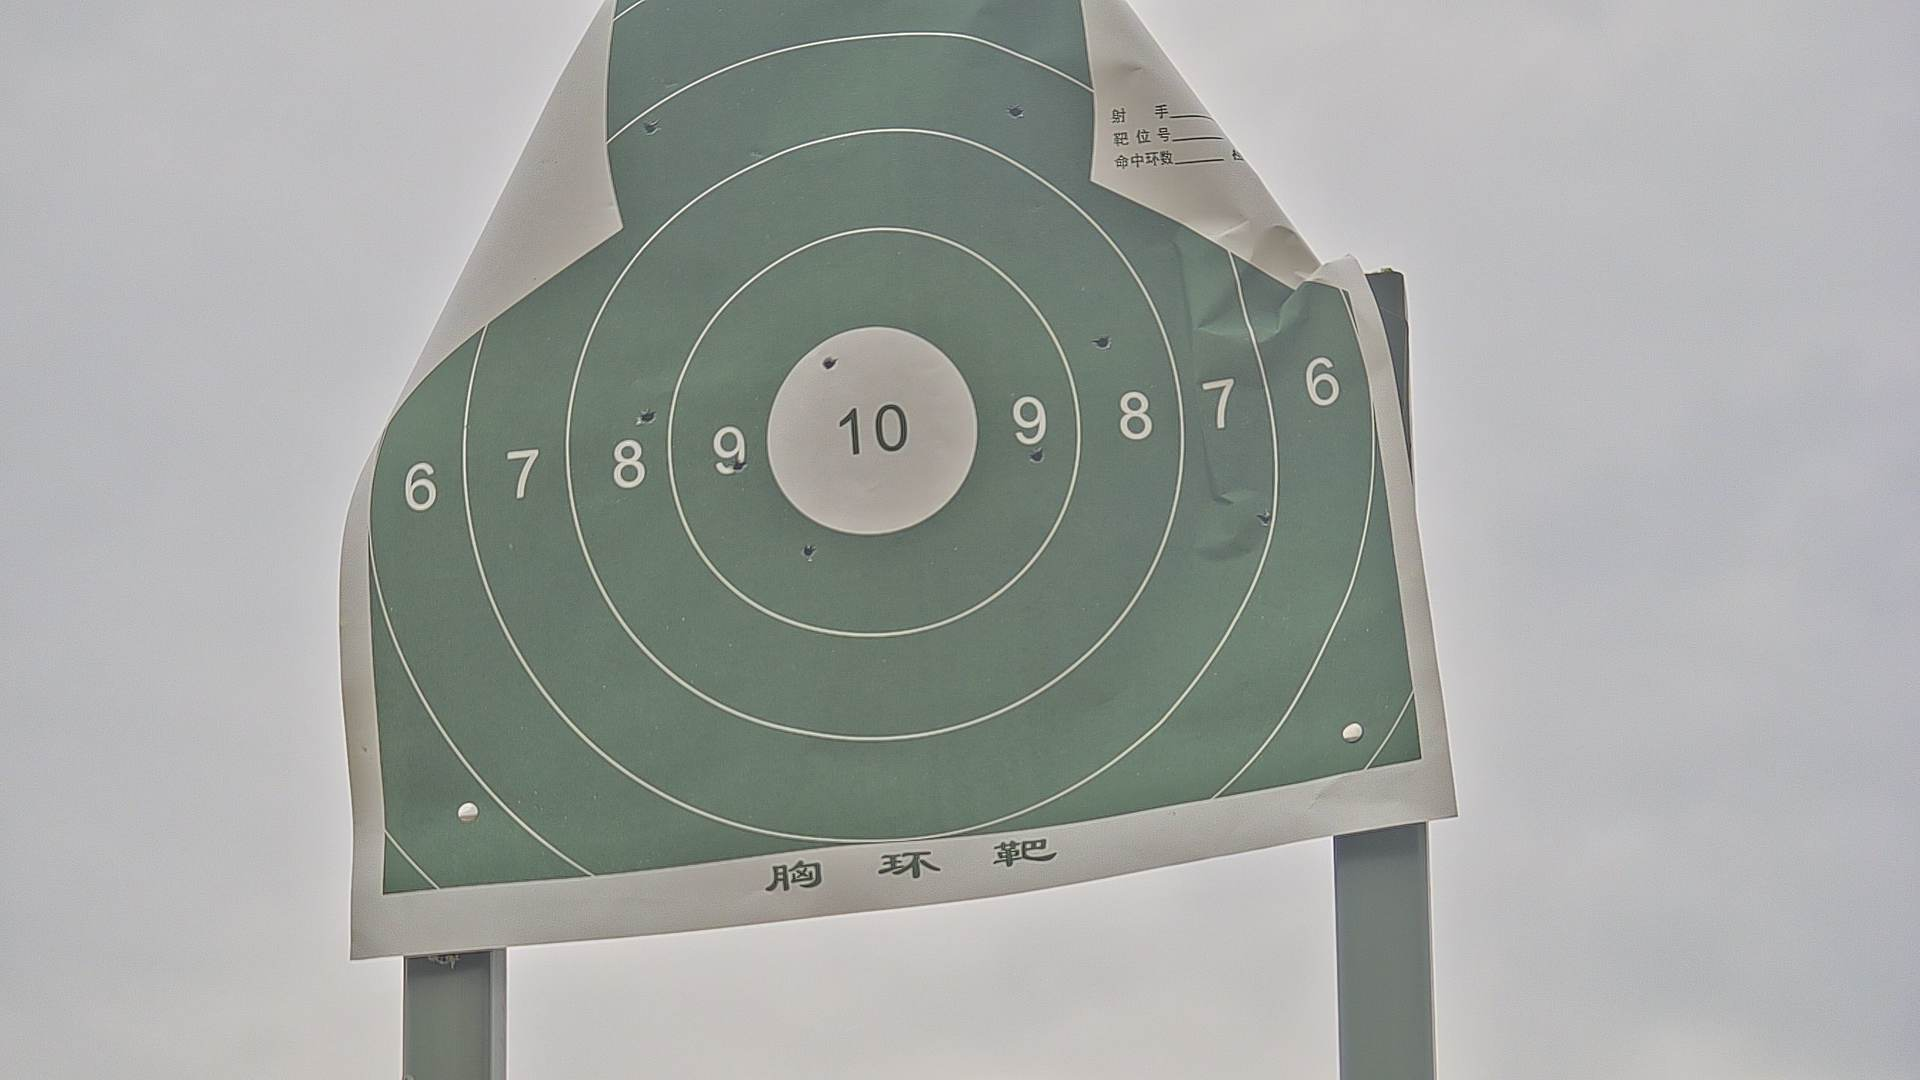hole: (1007, 105, 1023, 117), (1095, 336, 1108, 349), (823, 356, 836, 369), (1261, 510, 1273, 525), (1030, 447, 1042, 462), (645, 123, 658, 135), (803, 545, 814, 556), (735, 459, 746, 469), (641, 411, 653, 422)
kernel: (862, 429, 868, 434)
target: (367, 1, 1428, 906)
ten: (761, 320, 984, 535)
